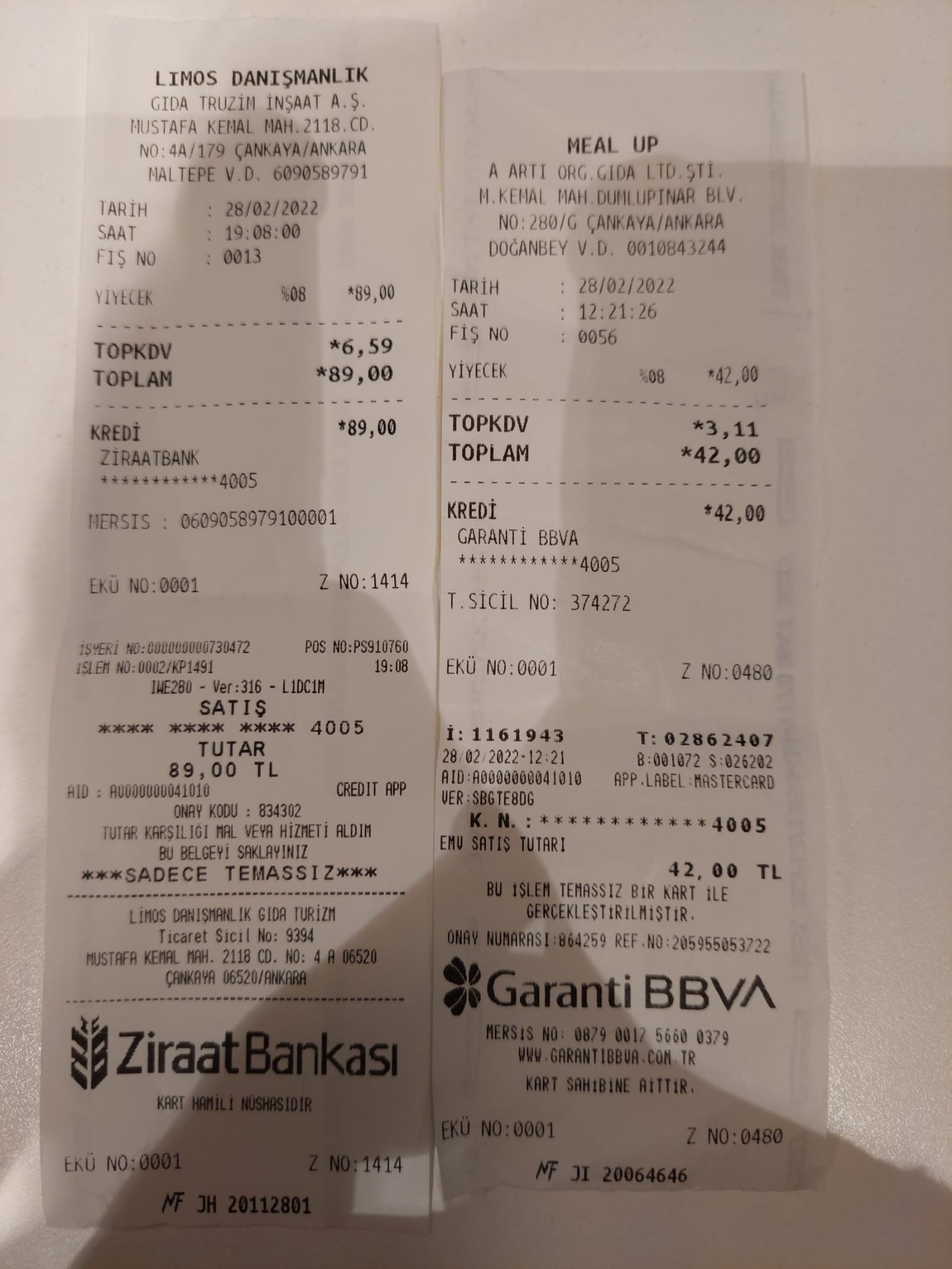date: (686, 439, 767, 474), (323, 357, 399, 392)
price: (217, 192, 323, 224), (567, 270, 678, 300)
workplace: (469, 127, 767, 237), (112, 54, 395, 162)
